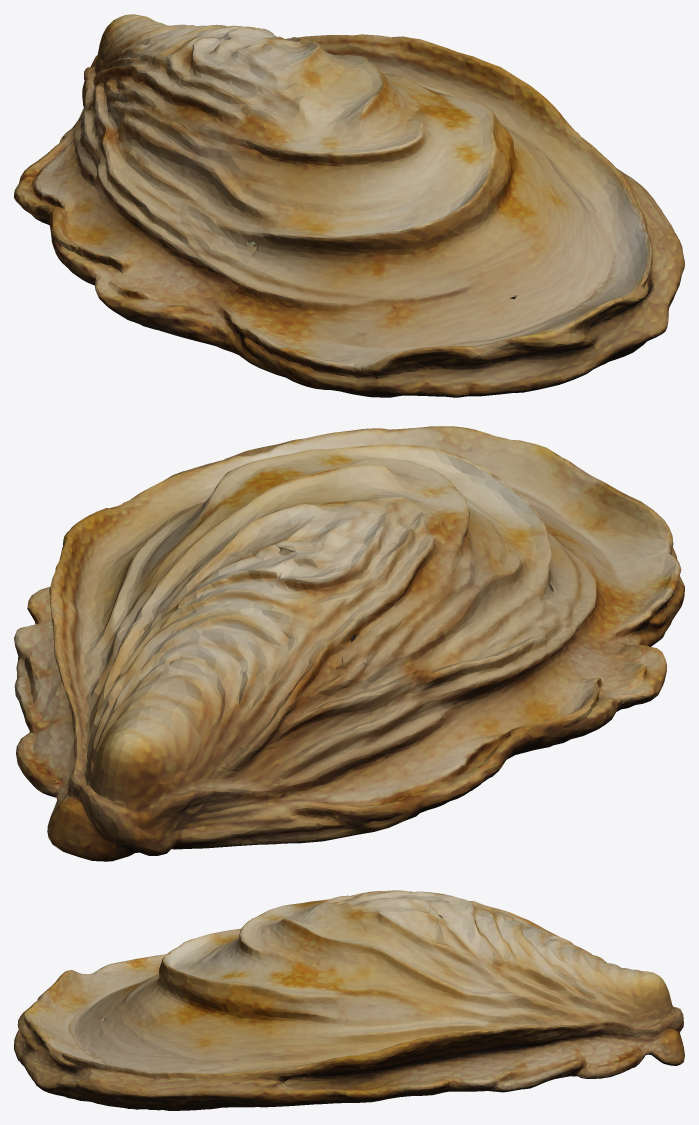
3 views of the same model, one above another, from view 1: azimuth 30°, elevation 25°; view 2: azimuth 150°, elevation 25°; view 3: azimuth 270°, elevation 25° (orthographic). The views are drawn at different scales.
Parts seen in each view (by area): view 1: world; view 2: world; view 3: world.
Part boxes in pixels (x1,y1,x2,y2): world: [14, 14, 684, 397]; world: [14, 426, 684, 861]; world: [14, 890, 684, 1110].
Bounding box in the file's own units: 0.6635 × 0.2302 × 0.9925.
1 material, 1 textured.
